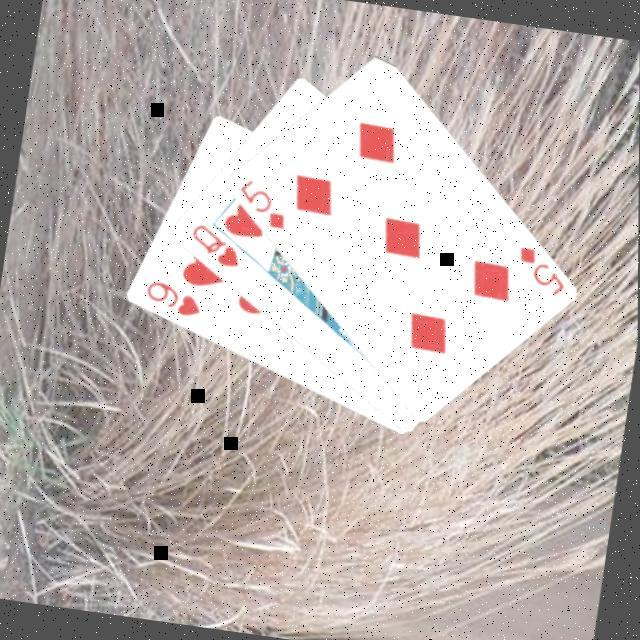5D: (232, 174, 295, 233), (511, 241, 574, 300)
9H: (140, 275, 208, 321)
QH: (184, 218, 248, 272)
